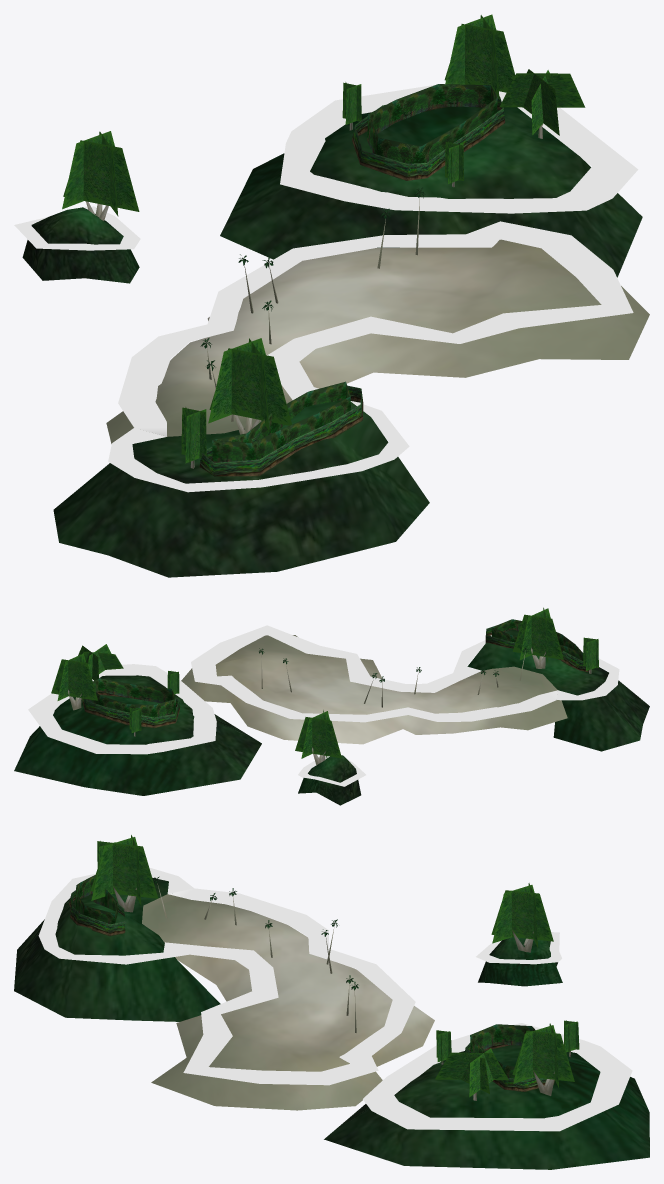
The model's file is pir_m_are_isl_outcast_dock_lod.fbx.
3 views of the same model, one above another, from view 1: azimuth 30°, elevation 25°; view 2: azimuth 150°, elevation 25°; view 3: azimuth 270°, elevation 25° (orthographic). The views are drawn at different scales.
Visible parts, largest first — view 1: beach, hill_0, hill_2, wave_0, wave_1, hill_1, tree_wall_5, wave_3, tree_wall_3, leaves_4.002, berm_7, leaves_4 (+8 smaller); view 2: beach, hill_2, wave_0, hill_0, wave_1, tree_wall_5, hill_1, leaves_0.010, wave_3, leaves_0.009, berm_2, leaves_0.008 (+8 smaller); view 3: beach, hill_2, hill_0, wave_0, wave_1, wave_3, hill_1, leaves_3.002, leaves_3.001, leaves_3, tree_wall_5, leaves_1.008 (+8 smaller).
Part boxes in pixels (x1=…): beach: x1=106, y1=239, x2=649, y2=443; hill_0: x1=53, y1=400, x2=429, y2=577; hill_2: x1=220, y1=106, x2=642, y2=277; wave_0: x1=118, y1=221, x2=633, y2=436; wave_1: x1=280, y1=85, x2=638, y2=213; hill_1: x1=22, y1=207, x2=139, y2=283; tree_wall_5: x1=367, y1=84, x2=497, y2=163; wave_3: x1=108, y1=387, x2=409, y2=492; tree_wall_3: x1=212, y1=381, x2=350, y2=462; leaves_4.002: x1=209, y1=348, x2=291, y2=425; berm_7: x1=199, y1=385, x2=363, y2=476; leaves_4: x1=63, y1=140, x2=139, y2=211; beach: x1=181, y1=635, x2=567, y2=744; hill_2: x1=14, y1=675, x2=261, y2=795; wave_0: x1=191, y1=625, x2=557, y2=722; hill_0: x1=467, y1=629, x2=649, y2=751; wave_1: x1=28, y1=664, x2=216, y2=754; tree_wall_5: x1=86, y1=678, x2=175, y2=717; hill_1: x1=298, y1=755, x2=361, y2=805; leaves_0.010: x1=512, y1=614, x2=563, y2=659; wave_3: x1=453, y1=640, x2=619, y2=700; leaves_0.009: x1=51, y1=659, x2=97, y2=700; berm_2: x1=81, y1=691, x2=179, y2=728; leaves_0.008: x1=295, y1=717, x2=341, y2=758; beach: x1=142, y1=894, x2=434, y2=1110; hill_2: x1=324, y1=1045, x2=649, y2=1169; hill_0: x1=14, y1=878, x2=220, y2=1021; wave_0: x1=165, y1=888, x2=415, y2=1085; wave_1: x1=363, y1=1023, x2=632, y2=1131; wave_3: x1=38, y1=868, x2=193, y2=964; hill_1: x1=478, y1=937, x2=562, y2=986; leaves_3.002: x1=90, y1=842, x2=158, y2=898; leaves_3.001: x1=512, y1=1030, x2=574, y2=1081; leaves_3: x1=491, y1=890, x2=553, y2=941; tree_wall_5: x1=470, y1=1024, x2=535, y2=1078; leaves_1.008: x1=435, y1=1052, x2=508, y2=1080.
Bounding box in the file's own units: 112294 × 23003 × 106281.
Materials: 3 (3 with a texture image).
